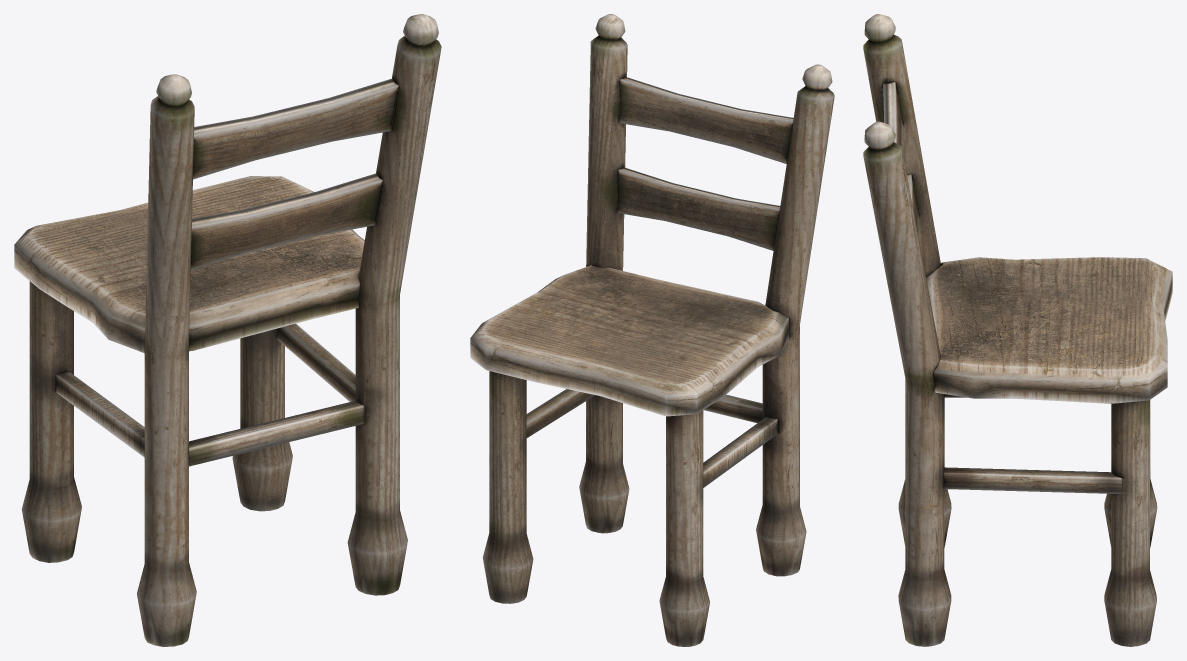
Rendered from chair.fbx.
3 renders of one model, left to right at view 1: azimuth 30°, elevation 25°; view 2: azimuth 150°, elevation 25°; view 3: azimuth 270°, elevation 25°, orthographic. The views are drawn at different scales.
Parts seen in each view (by area): view 1: chair_LOD0; view 2: chair_LOD0; view 3: chair_LOD0.
Boxes of the visible parts, <box> form: chair_LOD0: <box>14,14,441,646</box>; chair_LOD0: <box>470,14,834,646</box>; chair_LOD0: <box>863,14,1172,646</box>.
Size of what is drawn, in the model's own units: 0.5624 by 1.08 by 0.5794.
